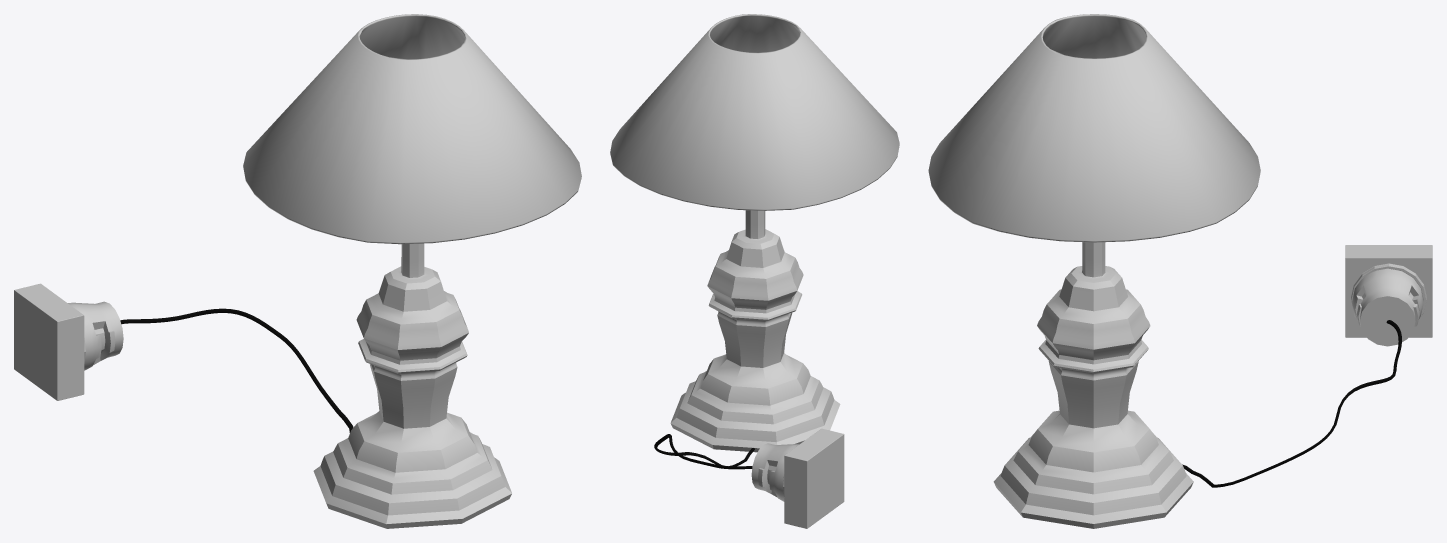
File: lamp with cable 2.fbx
The picture shows the model from 3 angles, left to right: view 1: azimuth 30°, elevation 25°; view 2: azimuth 150°, elevation 25°; view 3: azimuth 270°, elevation 25°; orthographic projection. The views are drawn at different scales.
Visible parts, largest first — view 1: Lamp Top part, lamp body, Socket, Plug; view 2: Lamp Top part, lamp body, Socket, Plug; view 3: Lamp Top part, lamp body, Plug, Socket.
Boxes of the visible parts, x1=… form: Lamp Top part: x1=243, y1=14, x2=581, y2=244; lamp body: x1=313, y1=243, x2=511, y2=528; Socket: x1=14, y1=283, x2=85, y2=400; Plug: x1=68, y1=301, x2=353, y2=432; Lamp Top part: x1=610, y1=14, x2=899, y2=210; lamp body: x1=670, y1=210, x2=840, y2=452; Socket: x1=783, y1=428, x2=844, y2=528; Plug: x1=654, y1=434, x2=799, y2=501; Lamp Top part: x1=928, y1=14, x2=1260, y2=242; lamp body: x1=993, y1=242, x2=1193, y2=528; Plug: x1=1182, y1=268, x2=1423, y2=487; Socket: x1=1345, y1=245, x2=1432, y2=337.
Bounding box in the file's own units: 889 × 1048 × 1038.
